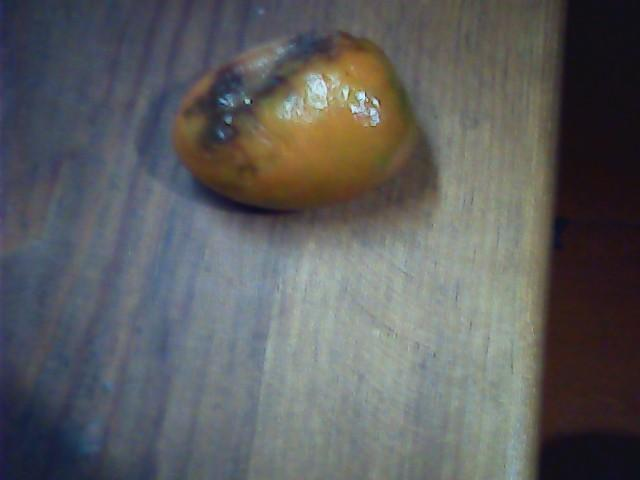defectuoso: (175, 31, 415, 206)
